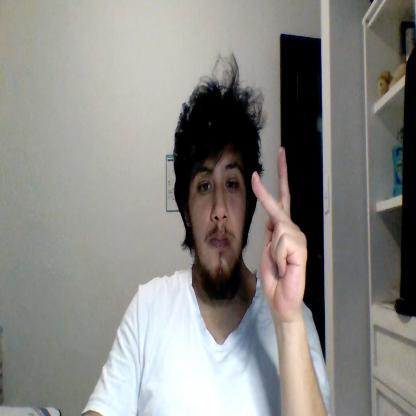P: (251, 146, 306, 317)
